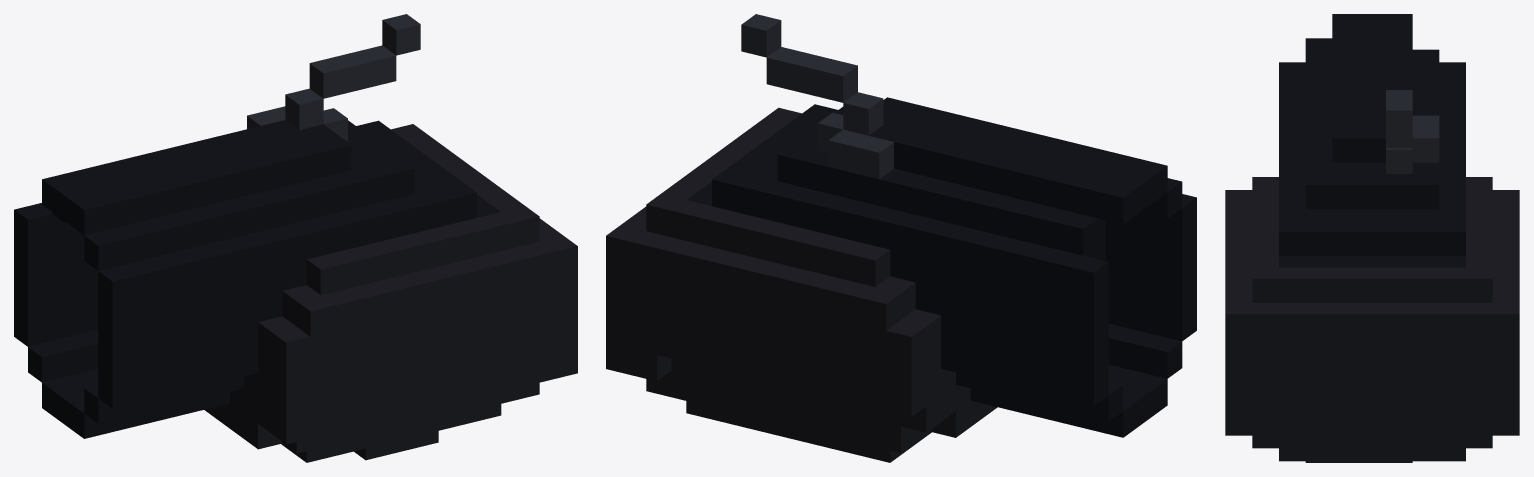
Rendered from Cannon.obj.
The picture shows the model from 3 angles, left to right: view 1: azimuth 30°, elevation 25°; view 2: azimuth 150°, elevation 25°; view 3: azimuth 270°, elevation 25°; orthographic projection. The views are drawn at different scales.
Bounding box in the file's own units: 1.8 × 1.5 × 1.1.
Materials: 1 (1 with a texture image).
